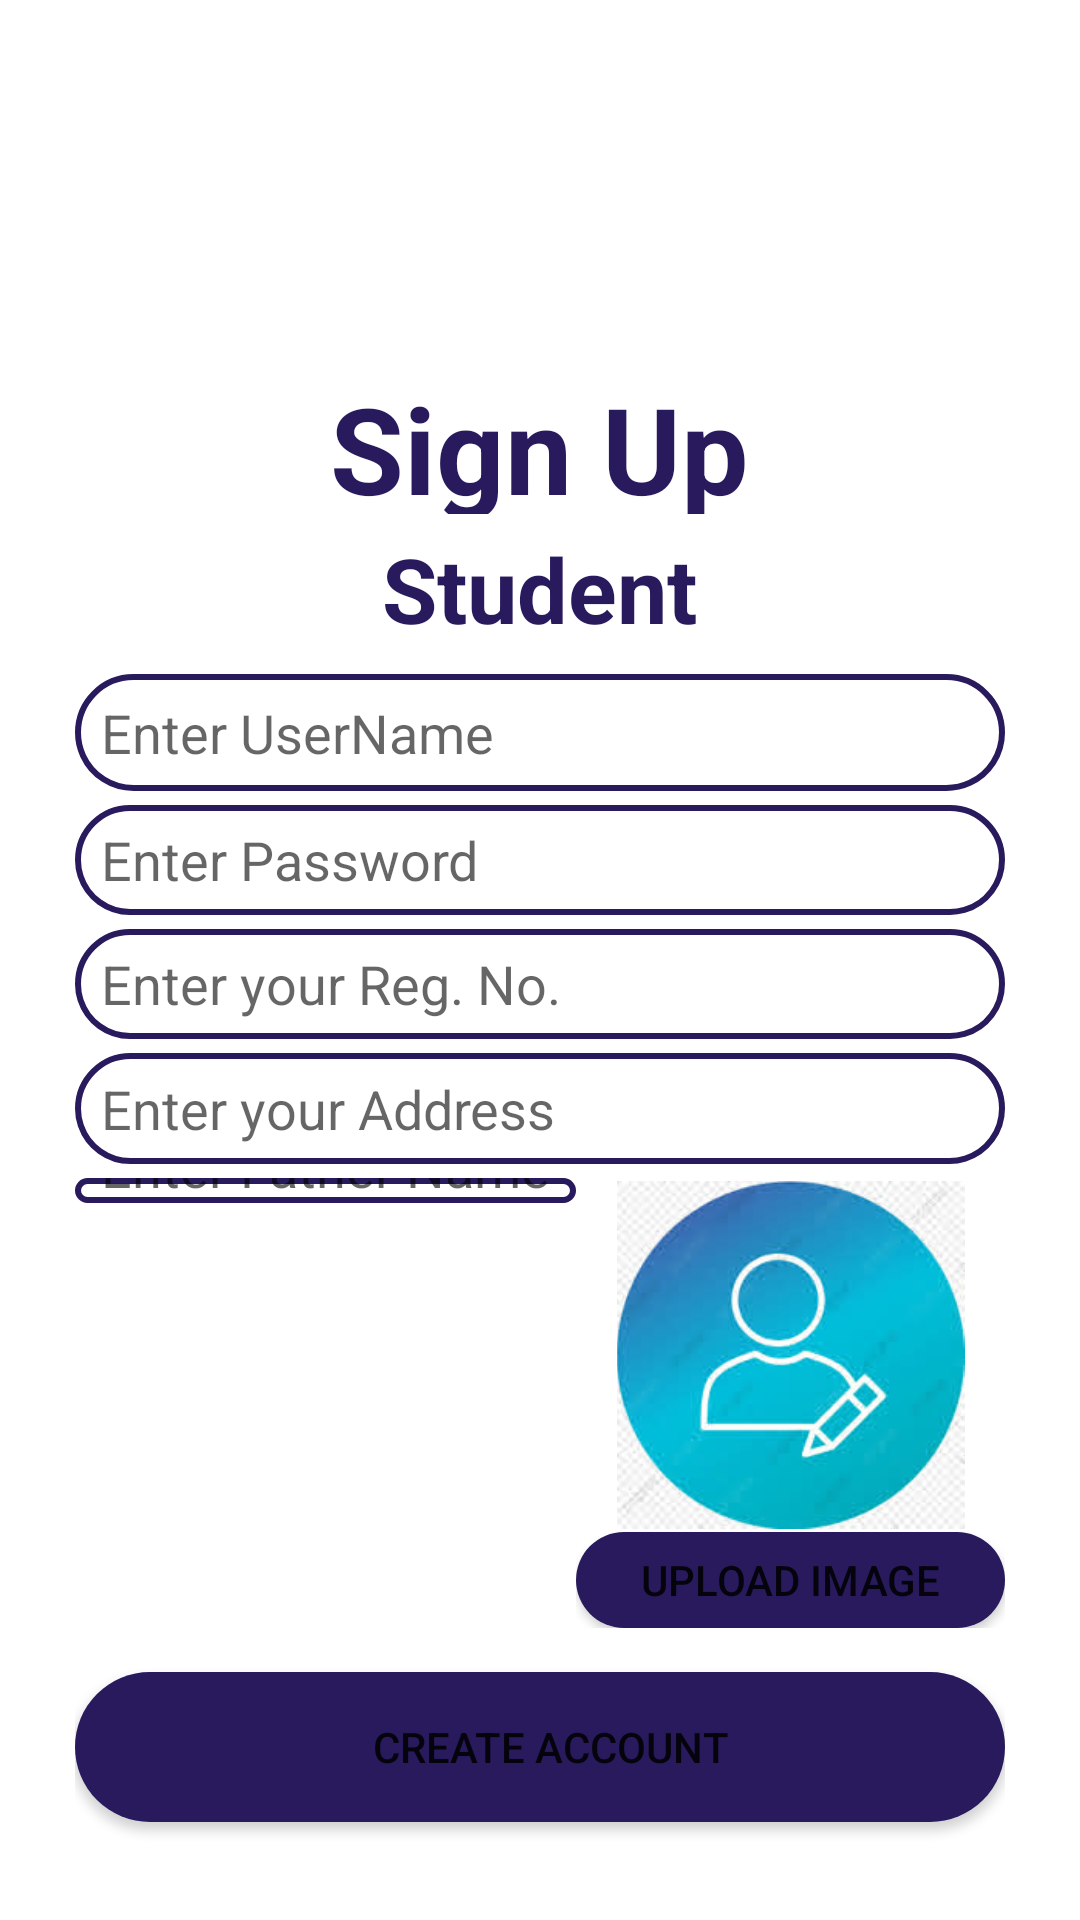

Where to tap for icons on this 1080*1920 app screen, as (x,y):
As a Student: (791,1355)
